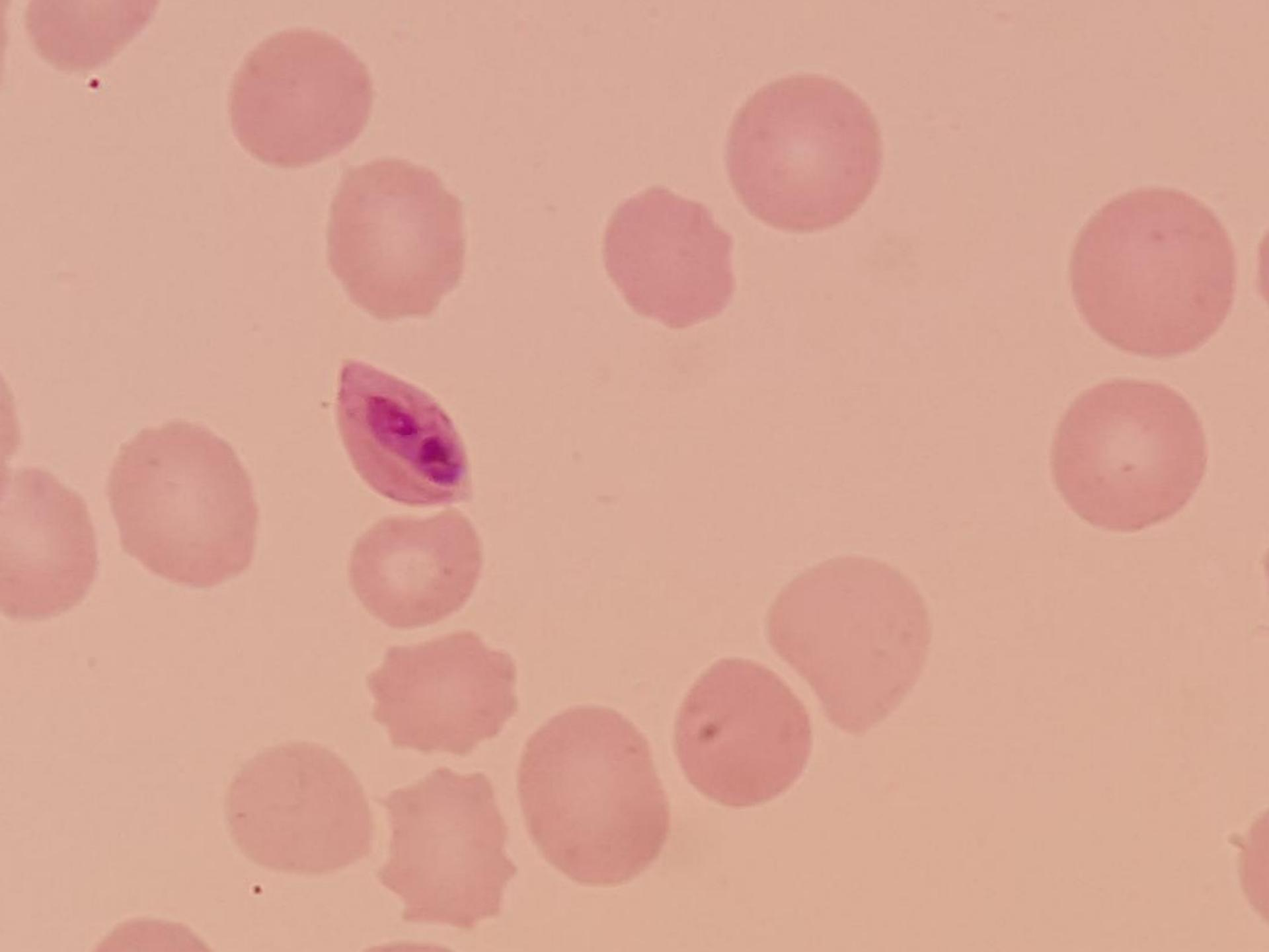Infected: (330, 357, 479, 510)
Uninfected: (518, 701, 674, 889), (767, 560, 936, 732), (1066, 197, 1237, 354), (1053, 377, 1210, 533), (110, 421, 254, 588), (731, 76, 881, 235), (377, 765, 517, 928), (330, 159, 467, 322), (674, 655, 812, 809), (225, 741, 382, 876), (361, 631, 520, 760), (229, 34, 377, 169), (604, 188, 739, 329), (344, 508, 486, 629)
